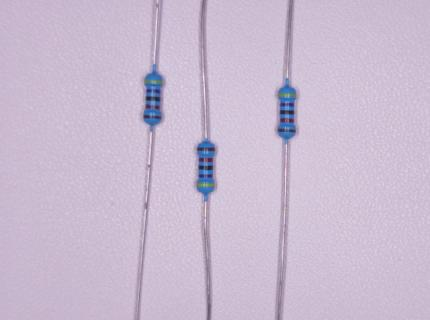Black band: (145, 96, 161, 102), (280, 110, 295, 115), (199, 165, 213, 170)
Brown band: (143, 114, 162, 120), (277, 128, 296, 133), (197, 147, 215, 152)
Red band: (145, 104, 160, 110), (198, 157, 213, 162), (280, 118, 294, 123)
Violet band: (146, 89, 161, 94), (199, 174, 213, 178), (280, 103, 294, 107)
Yellow band: (144, 79, 163, 84), (278, 93, 297, 98), (196, 183, 215, 187)
